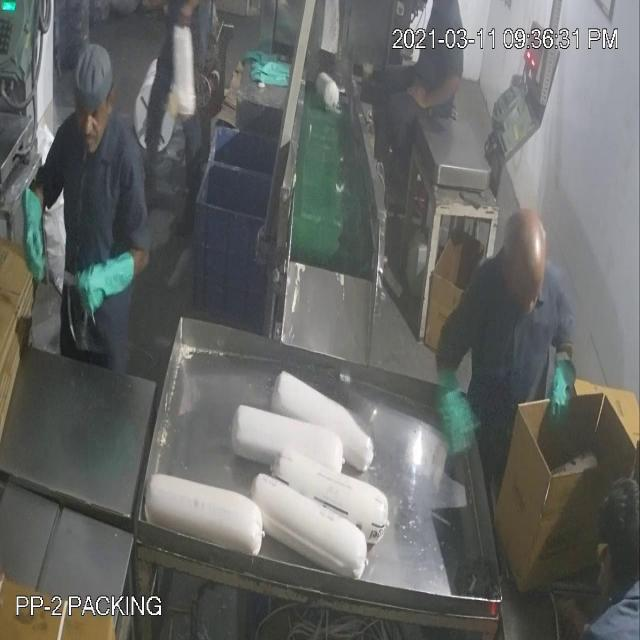No_Gloves: (399, 58, 465, 114)
